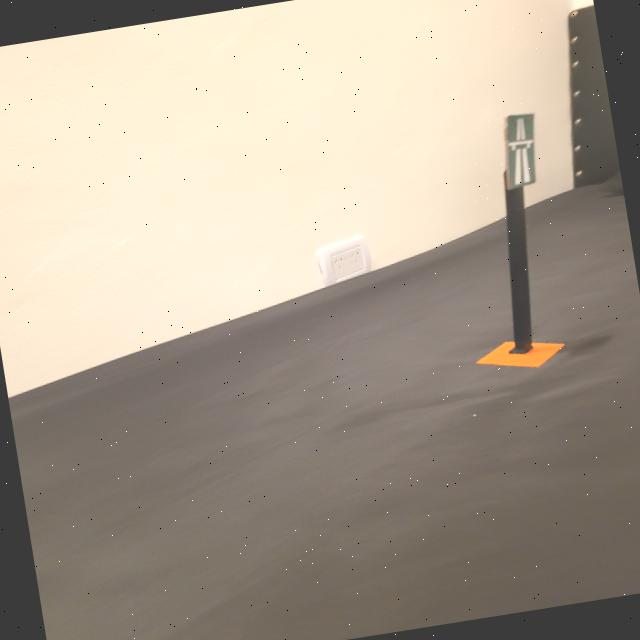highway_entrance: (498, 110, 548, 192)
